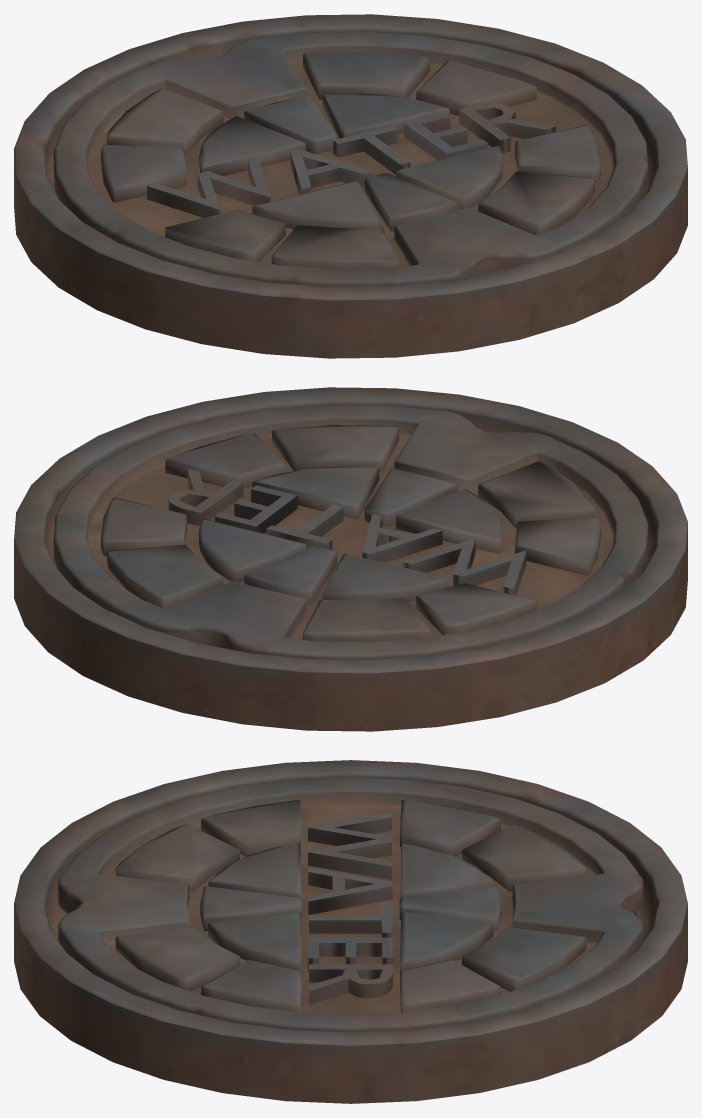
The model's file is water_manhole_cover.glb.
3 renders of one model, top to bottom at view 1: azimuth 30°, elevation 25°; view 2: azimuth 150°, elevation 25°; view 3: azimuth 270°, elevation 25°, orthographic.
Parts seen in each view (by area): view 1: water_manhole_cover_frame; view 2: water_manhole_cover_frame; view 3: water_manhole_cover_frame.
Boxes of the visible parts, x1,y1,x2,y2 form: water_manhole_cover_frame: (14,14,687,358); water_manhole_cover_frame: (14,387,687,731); water_manhole_cover_frame: (14,760,687,1103).
Bounding box in the file's own units: 0.6908 × 0.0676 × 0.6908.
Materials: 1 (1 with a texture image).
